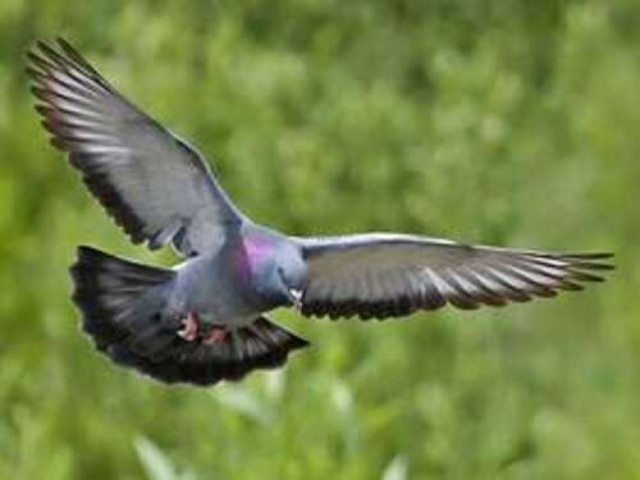Pigeon: (22, 34, 618, 389)
